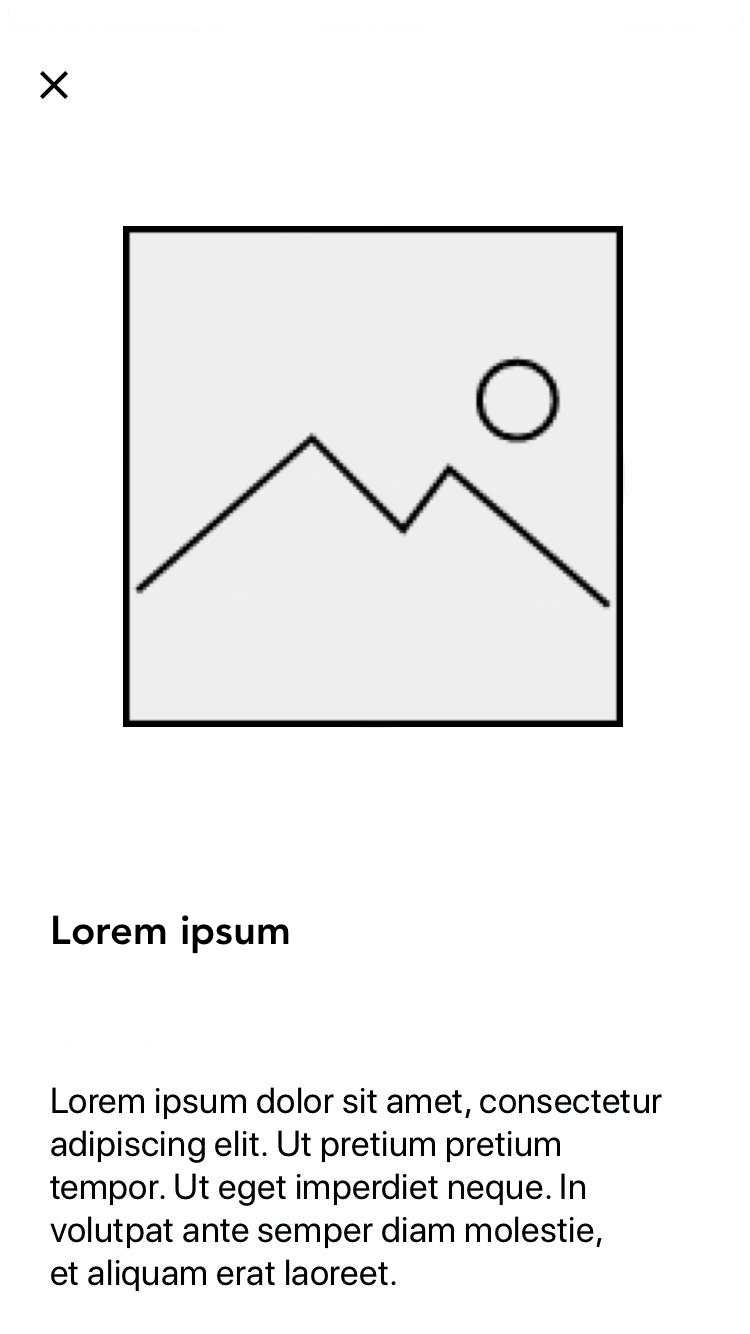Icon: (40, 71, 70, 101)
Image: (122, 226, 624, 728)
Text: (50, 1086, 663, 1292), (52, 914, 290, 955)
